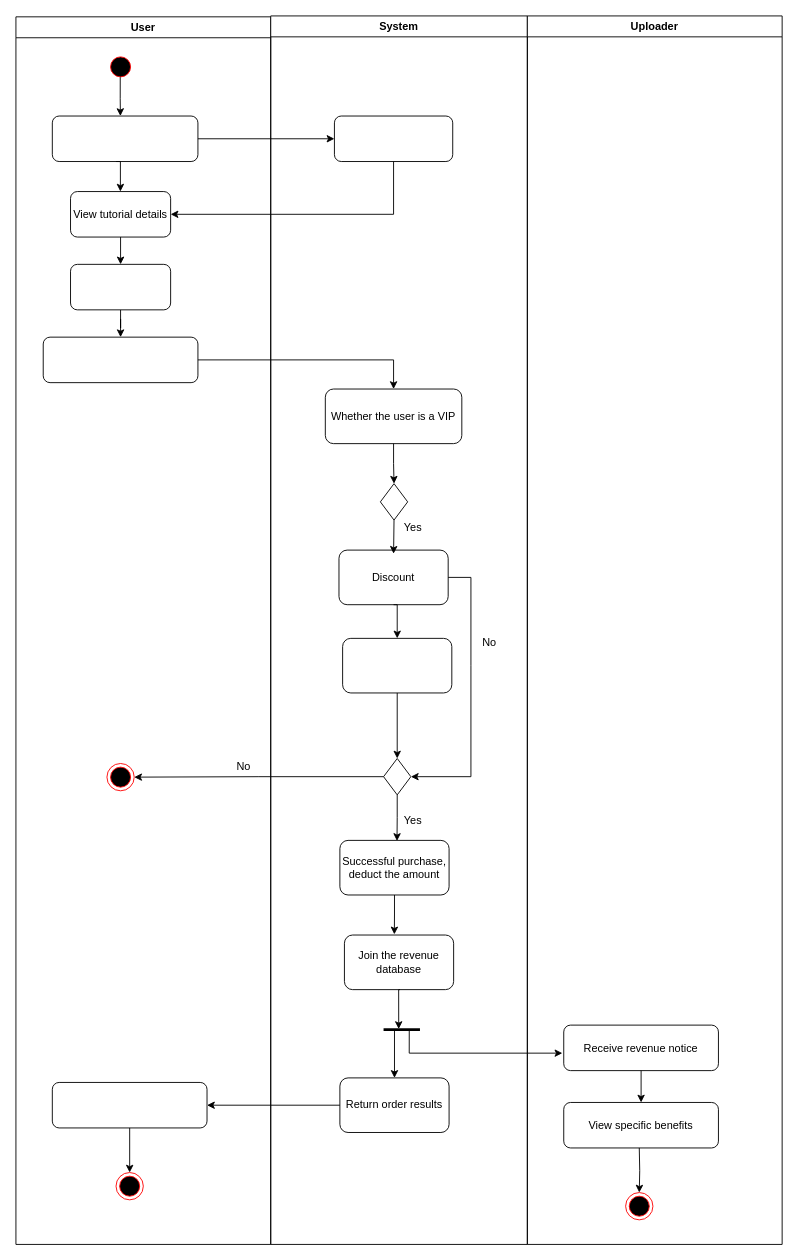
Some shapes in this 798 by 1260 pixel diagram are drawn without their labels. The centre of each missing label's shape, as x and y in pixels:
"Choose the payment method" belongs at [120,359].
"Choose to buy" belongs at [120,286].
"Displays the tutorial list" belongs at [393,138].
"Jump has bought tutorials" belongs at [129,1105].
"Log in and browse the tutorial" belongs at [124,138].
"Whether the account balance is sufficient" belongs at [397,665].
